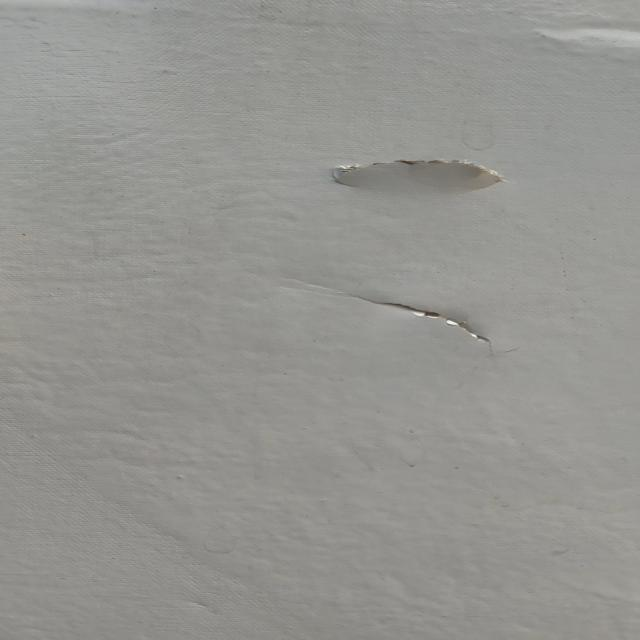Scratches: (323, 284, 528, 353), (319, 144, 512, 203), (497, 5, 640, 58)
